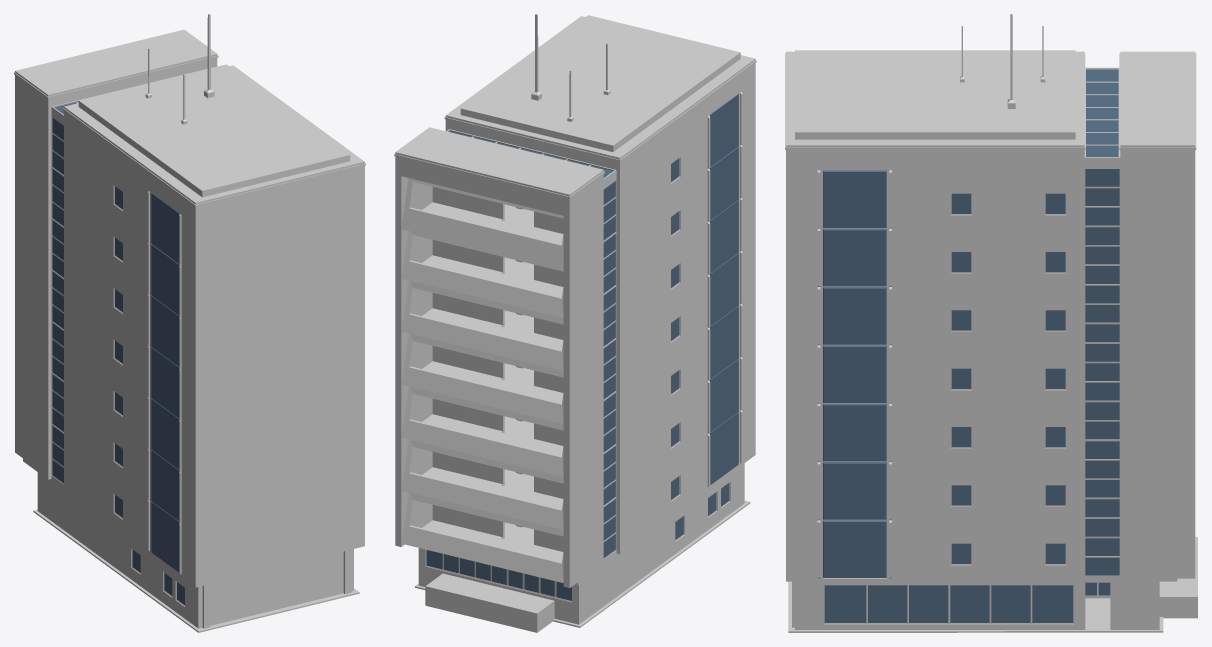
The model's file is res_04.glb.
3 renders of one model, left to right at view 1: azimuth 30°, elevation 25°; view 2: azimuth 150°, elevation 25°; view 3: azimuth 270°, elevation 25°, orthographic. The views are drawn at different scales.
Visible parts, largest first — view 1: Residential Buildings 004; view 2: Residential Buildings 004; view 3: Residential Buildings 004.
Part boxes in pixels (x1,y1,x2,y2): Residential Buildings 004: [14, 14, 365, 632]; Residential Buildings 004: [394, 14, 756, 632]; Residential Buildings 004: [785, 14, 1197, 632].
Bounding box in the file's own units: 12.59 × 36.39 × 23.1.
